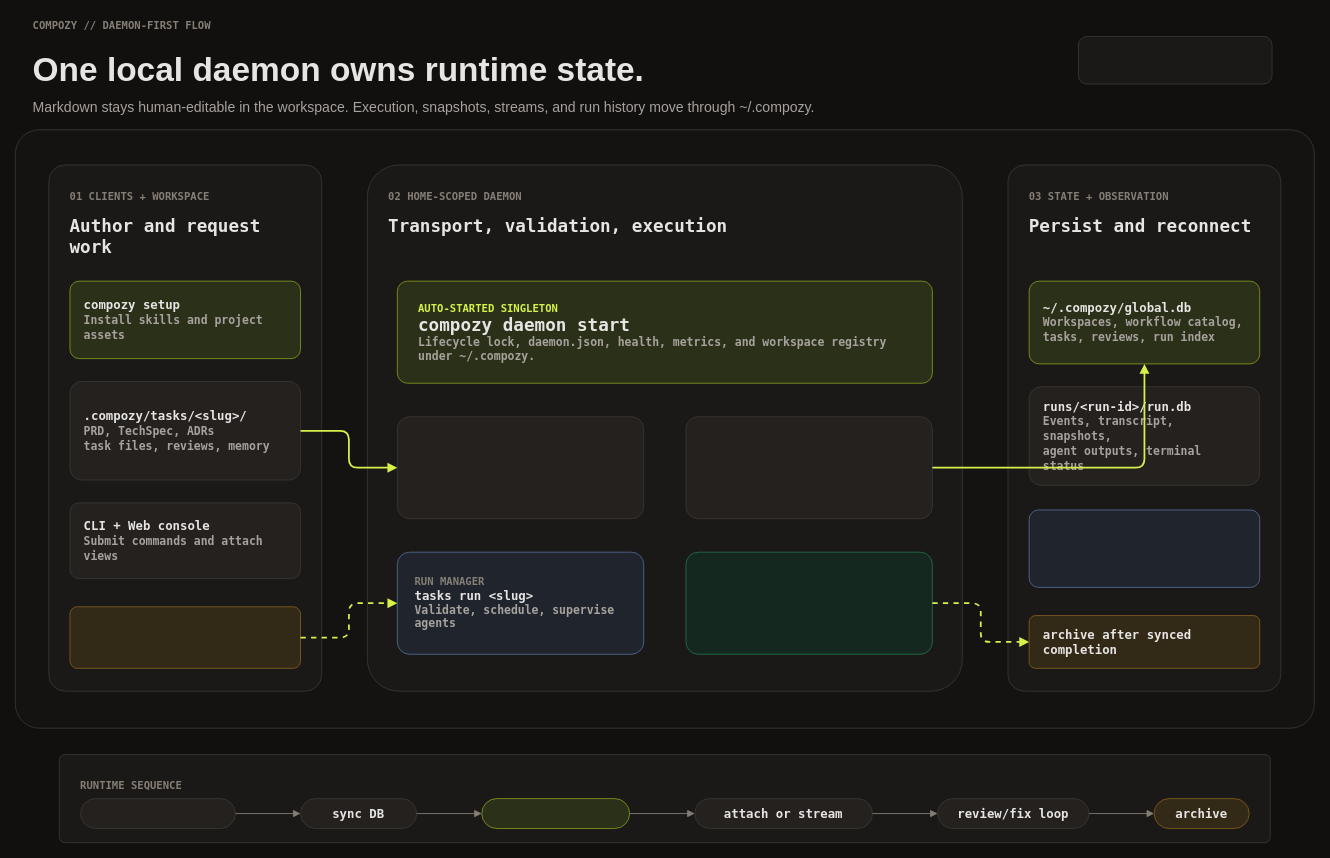
Some shapes in this 1330 by 858 pixel diagram are drawn without their labels. The shapes that lost their labels are listed below. From the top down, each one's centre as x and y in pixels, then its label:
At point 1175,60: "daemon-backed local-first runtime".
At point 520,467: "TRANSPORT CONTRACT UDS for CLI localhost HTTP + SSE for Web".
At point 808,467: "WORKSPACE REGISTRY workspaces resolve/register Stable IDs for local roots".
At point 1144,548: "runs attach / watch Snapshot + stream reconnect".
At point 808,602: "EXTENSION HOOKS run-scoped subprocesses Prompt, lifecycle, review providers".
At point 185,637: "compozy sync Reconcile authored files".
At point 157,813: "author markdown".
At point 555,813: "start run".
